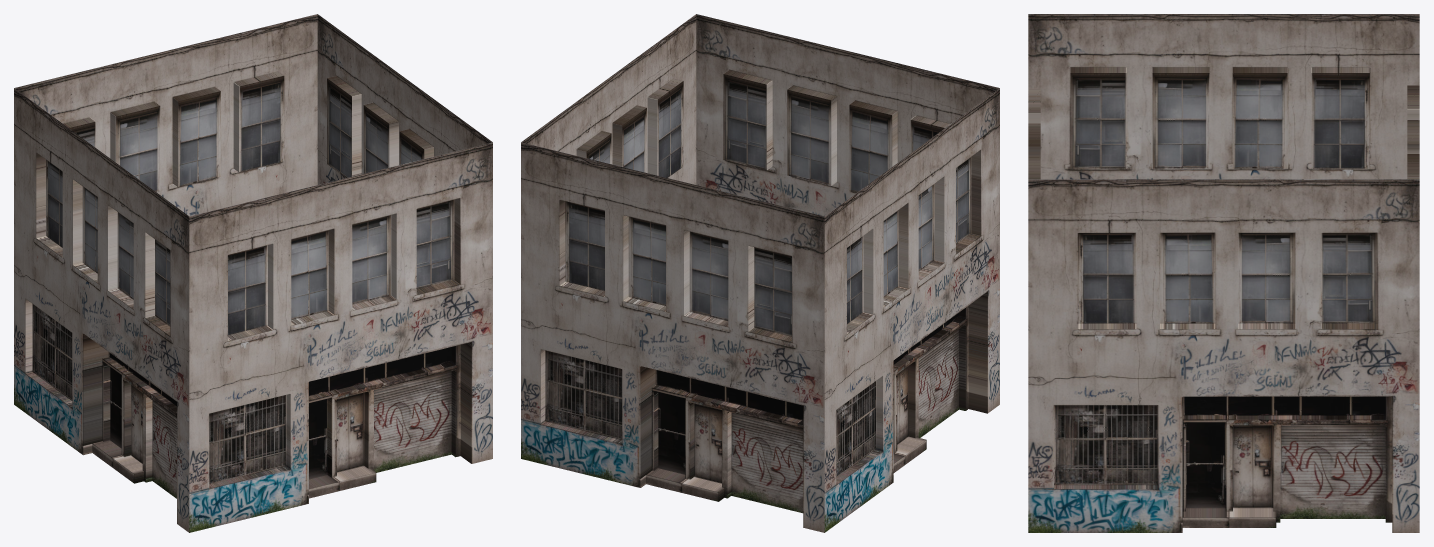
The picture shows the model from 3 angles, left to right: view 1: azimuth 30°, elevation 25°; view 2: azimuth 150°, elevation 25°; view 3: azimuth 270°, elevation 25°; orthographic projection. The views are drawn at different scales.
Visible parts, largest first — view 1: building.001, building.002, building.003, building; view 2: building.003, building.002, building.001, building; view 3: building, building.002, building.003, building.001.
Part boxes in pixels (x1,y1,x2,y2): building.001: [189, 142, 492, 532]; building.002: [14, 88, 189, 532]; building.003: [14, 14, 317, 216]; building: [317, 14, 492, 184]; building.003: [521, 142, 824, 532]; building.002: [824, 88, 999, 532]; building.001: [696, 14, 999, 216]; building: [521, 14, 696, 184]; building: [1028, 179, 1419, 532]; building.002: [1028, 14, 1419, 179]; building.003: [1407, 85, 1419, 179]; building.001: [1028, 88, 1040, 179].
Size of the model in its own units: 9.04 by 9.01 by 9.04.
Materials: 2 (2 with a texture image).
